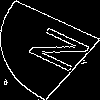N: (24, 25, 100, 80)
